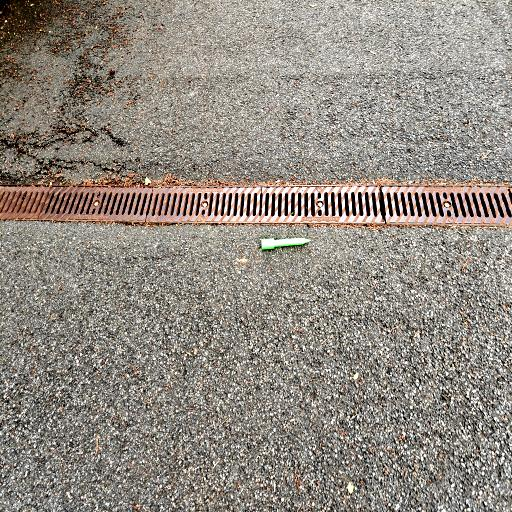Probe-Detection: (261, 238, 310, 249)
